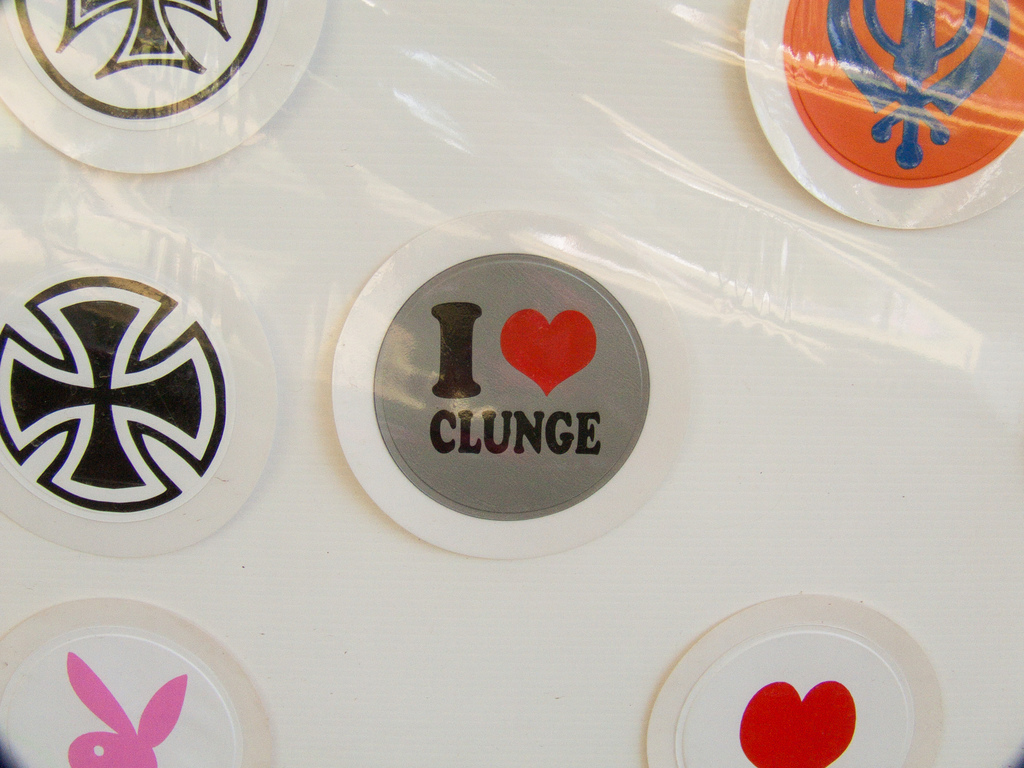plate: (328, 209, 691, 561), (21, 591, 262, 763)
